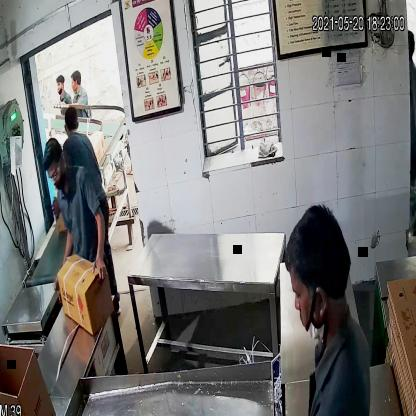goggles: (44, 167, 64, 188)
